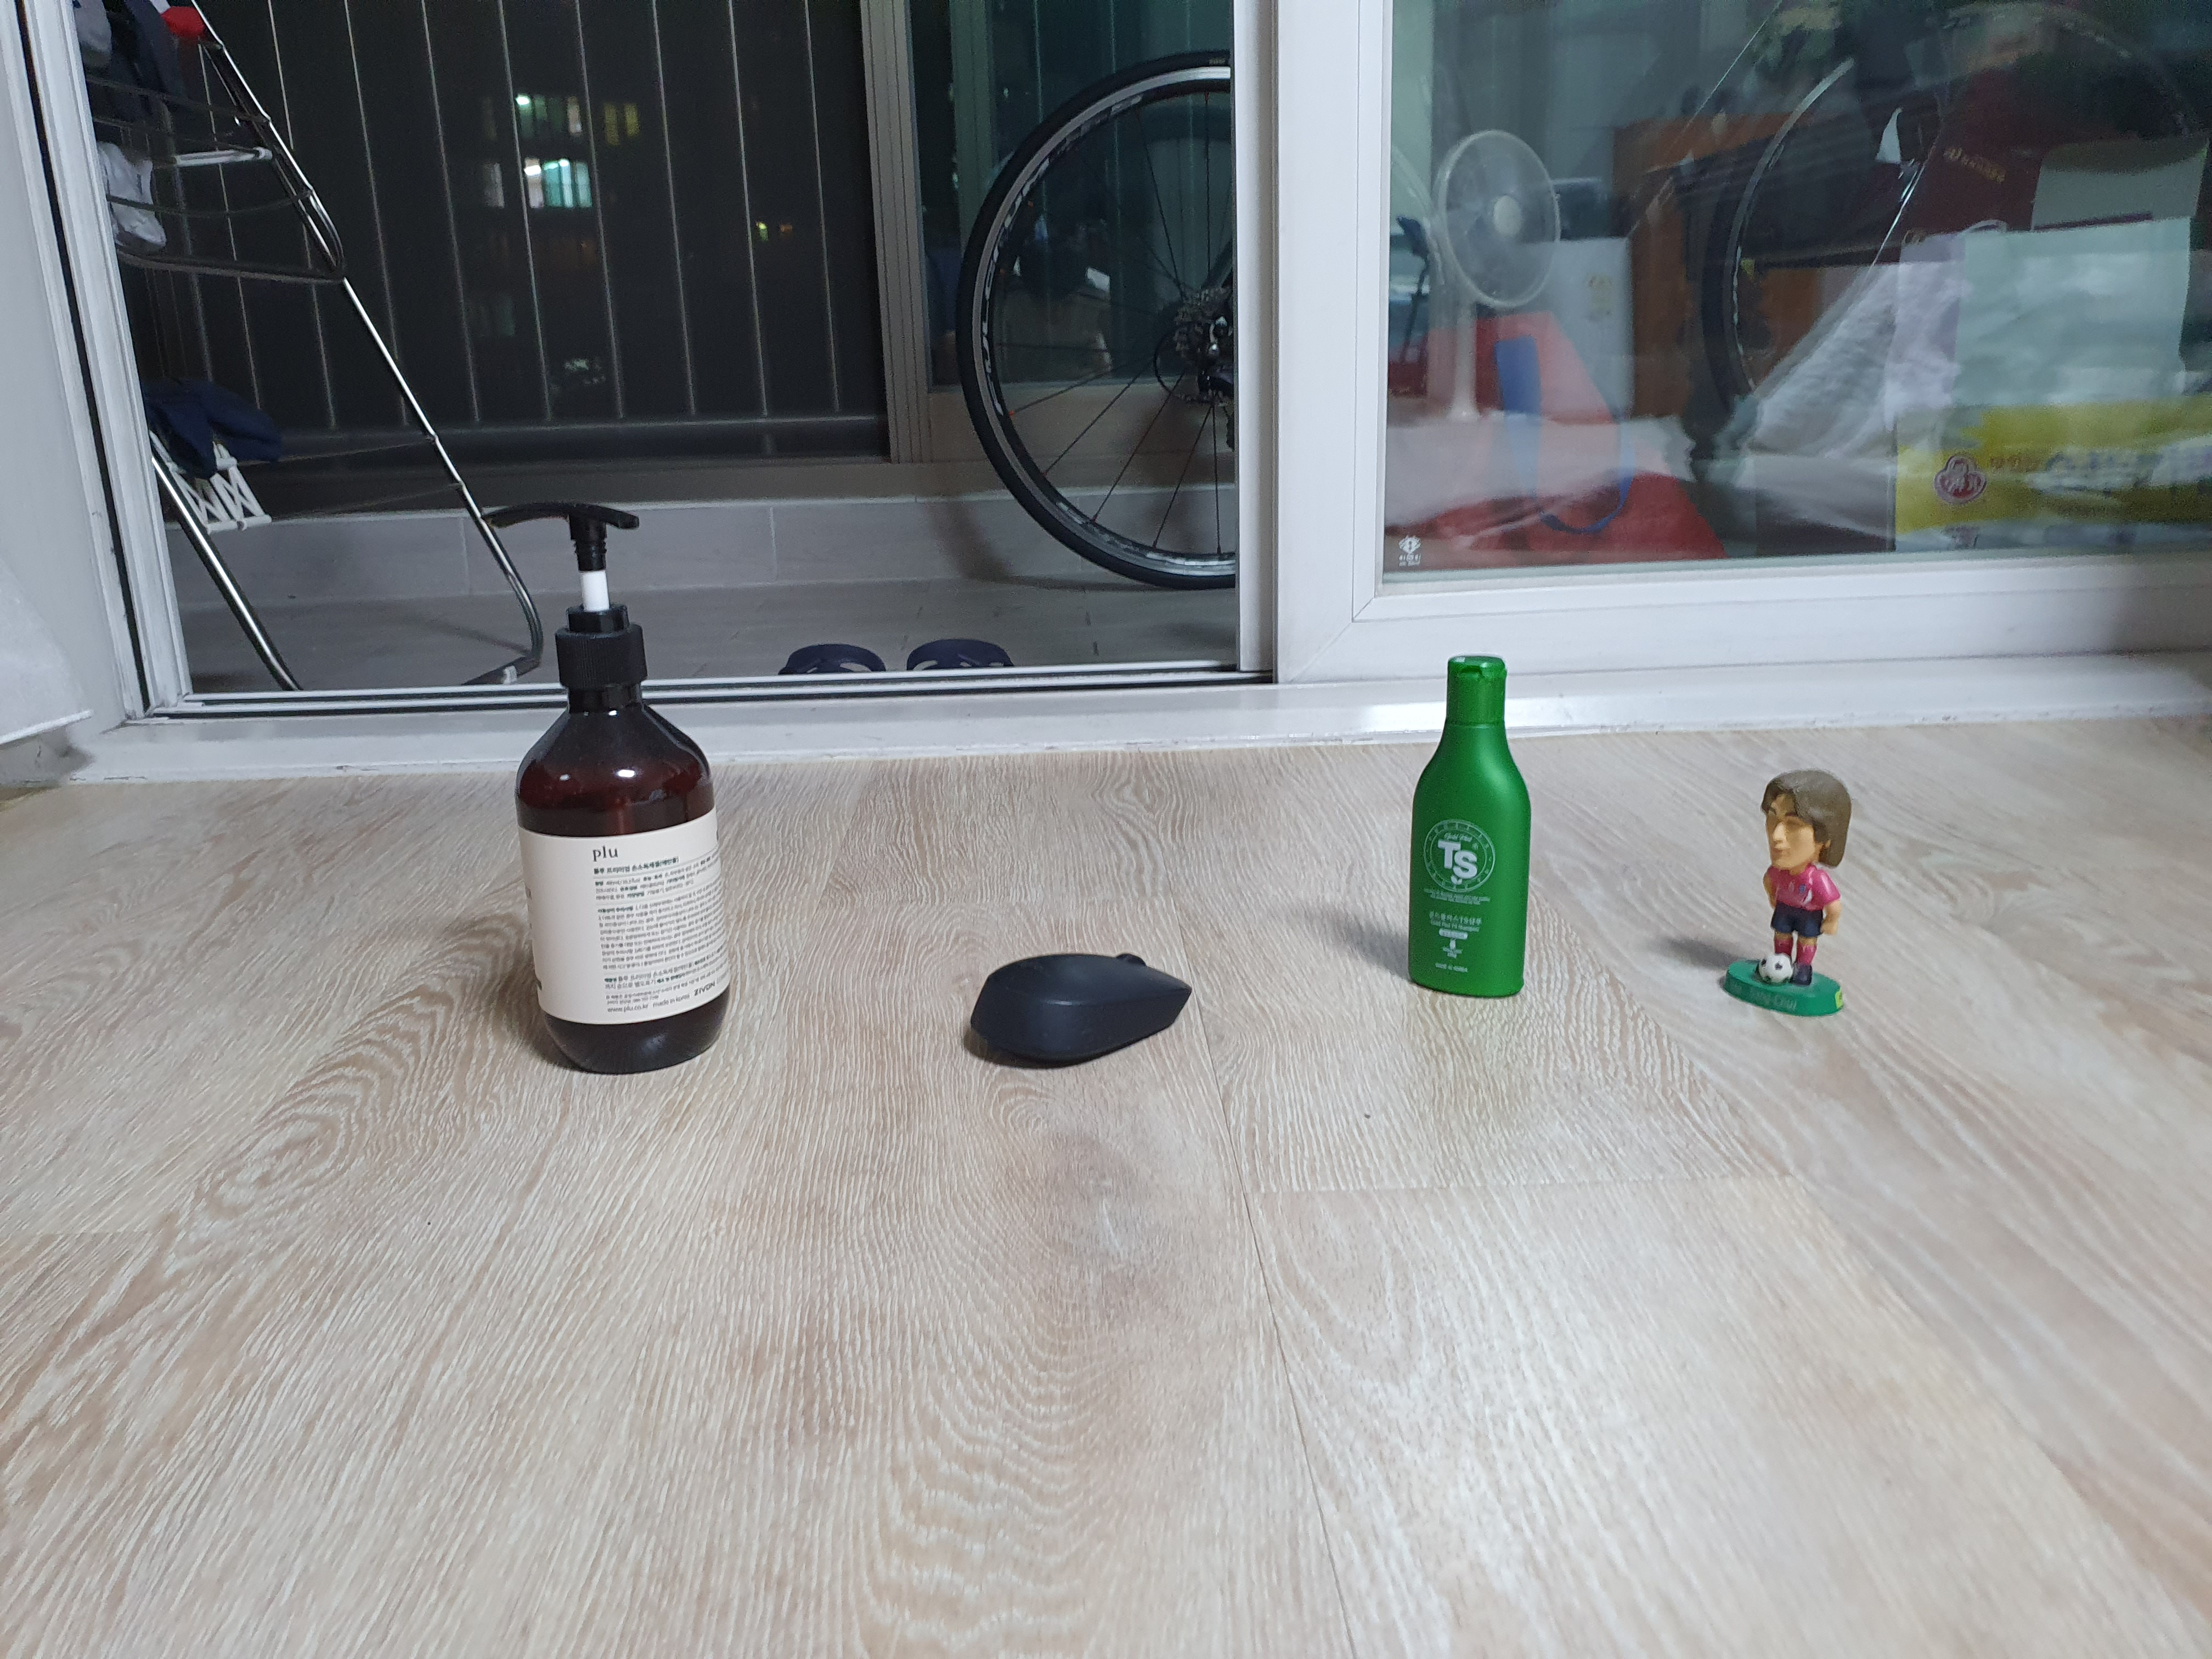bottle: (437, 467, 784, 1094), (942, 939, 1226, 1082)
shampoo: (1359, 636, 1569, 1007)
yoo: (1714, 753, 1879, 1033)
